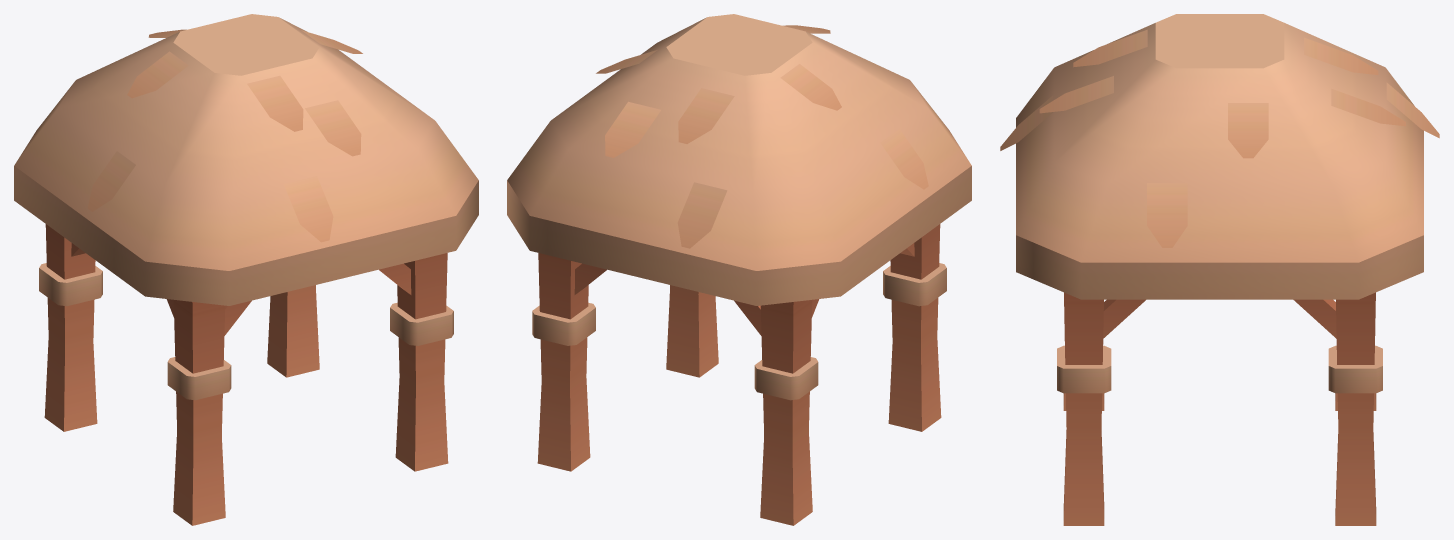
Rendered from kenney-pirate-structure-roof.glb.
3 views of the same model, side by side, from view 1: azimuth 30°, elevation 25°; view 2: azimuth 150°, elevation 25°; view 3: azimuth 270°, elevation 25° (orthographic). The views are drawn at different scales.
Visible parts, largest first — view 1: structure-roof; view 2: structure-roof; view 3: structure-roof.
Part boxes in pixels (<box>): structure-roof: <box>14,14,478,525</box>; structure-roof: <box>507,14,971,525</box>; structure-roof: <box>1000,14,1439,525</box>.
Bounding box in the file's own units: 3.09 × 3.4 × 3.23.
1 material, 1 textured.
